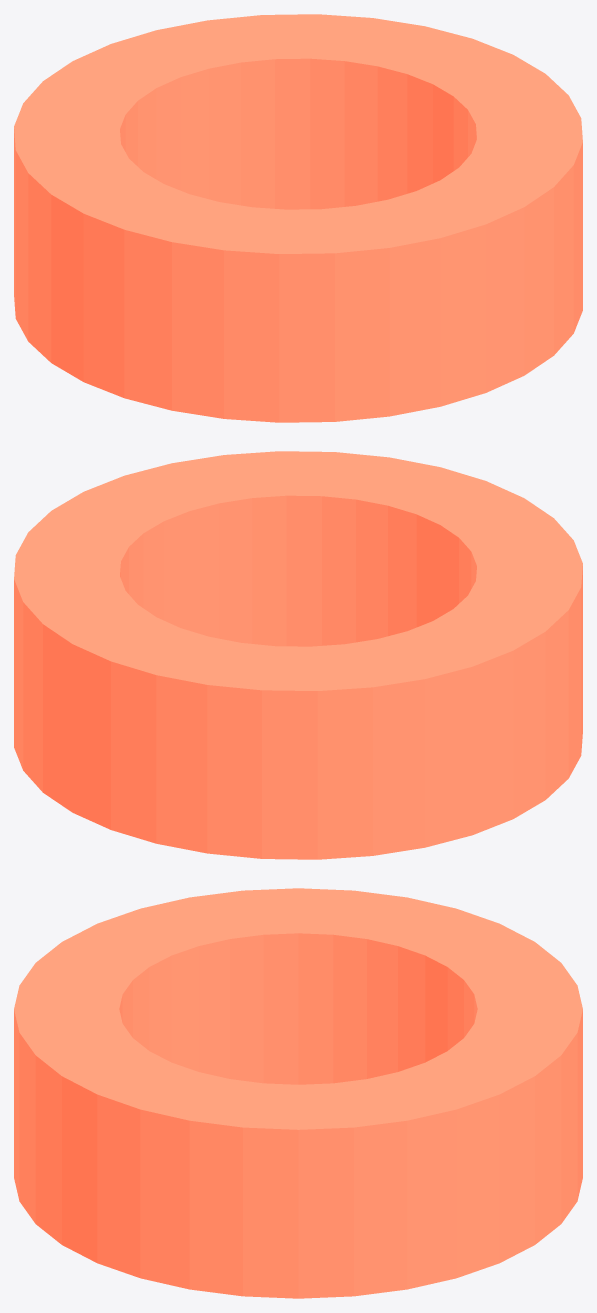
3 renders of one model, top to bottom at view 1: azimuth 30°, elevation 25°; view 2: azimuth 150°, elevation 25°; view 3: azimuth 270°, elevation 25°, orthographic.
Visible parts, largest first — view 1: Circle.001, Circle.003, Circle.002, Circle.004; view 2: Circle.001, Circle.003, Circle.002, Circle.004; view 3: Circle.001, Circle.003, Circle.002, Circle.004.
Part boxes in pixels (box(x1,y1,x2,y2)): Circle.001: box(14, 14, 582, 422); Circle.003: box(51, 30, 545, 238); Circle.002: box(87, 45, 509, 222); Circle.004: box(77, 39, 520, 227); Circle.001: box(14, 451, 582, 859); Circle.003: box(51, 466, 545, 675); Circle.002: box(87, 482, 509, 659); Circle.004: box(78, 477, 518, 665); Circle.001: box(14, 888, 582, 1298); Circle.003: box(50, 904, 545, 1113); Circle.002: box(88, 920, 508, 1098); Circle.004: box(73, 915, 523, 1102).
Bounding box in the file's own units: 3.99 × 1.3 × 3.97.
